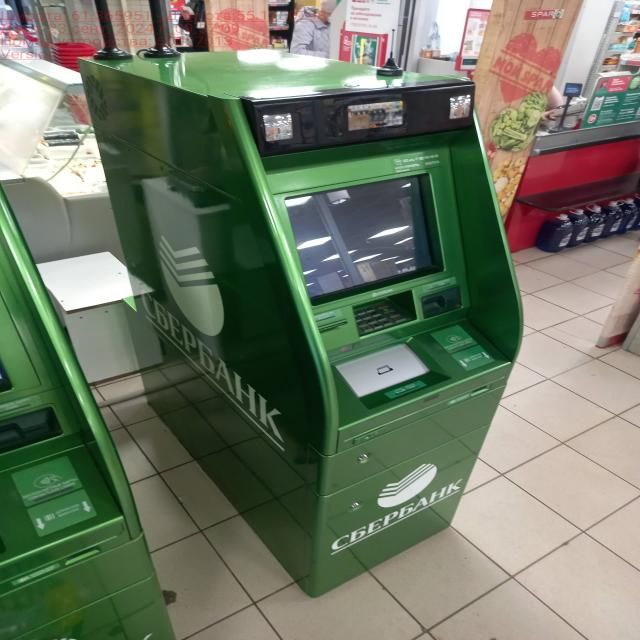bank: (82, 44, 522, 594), (0, 205, 155, 640)
